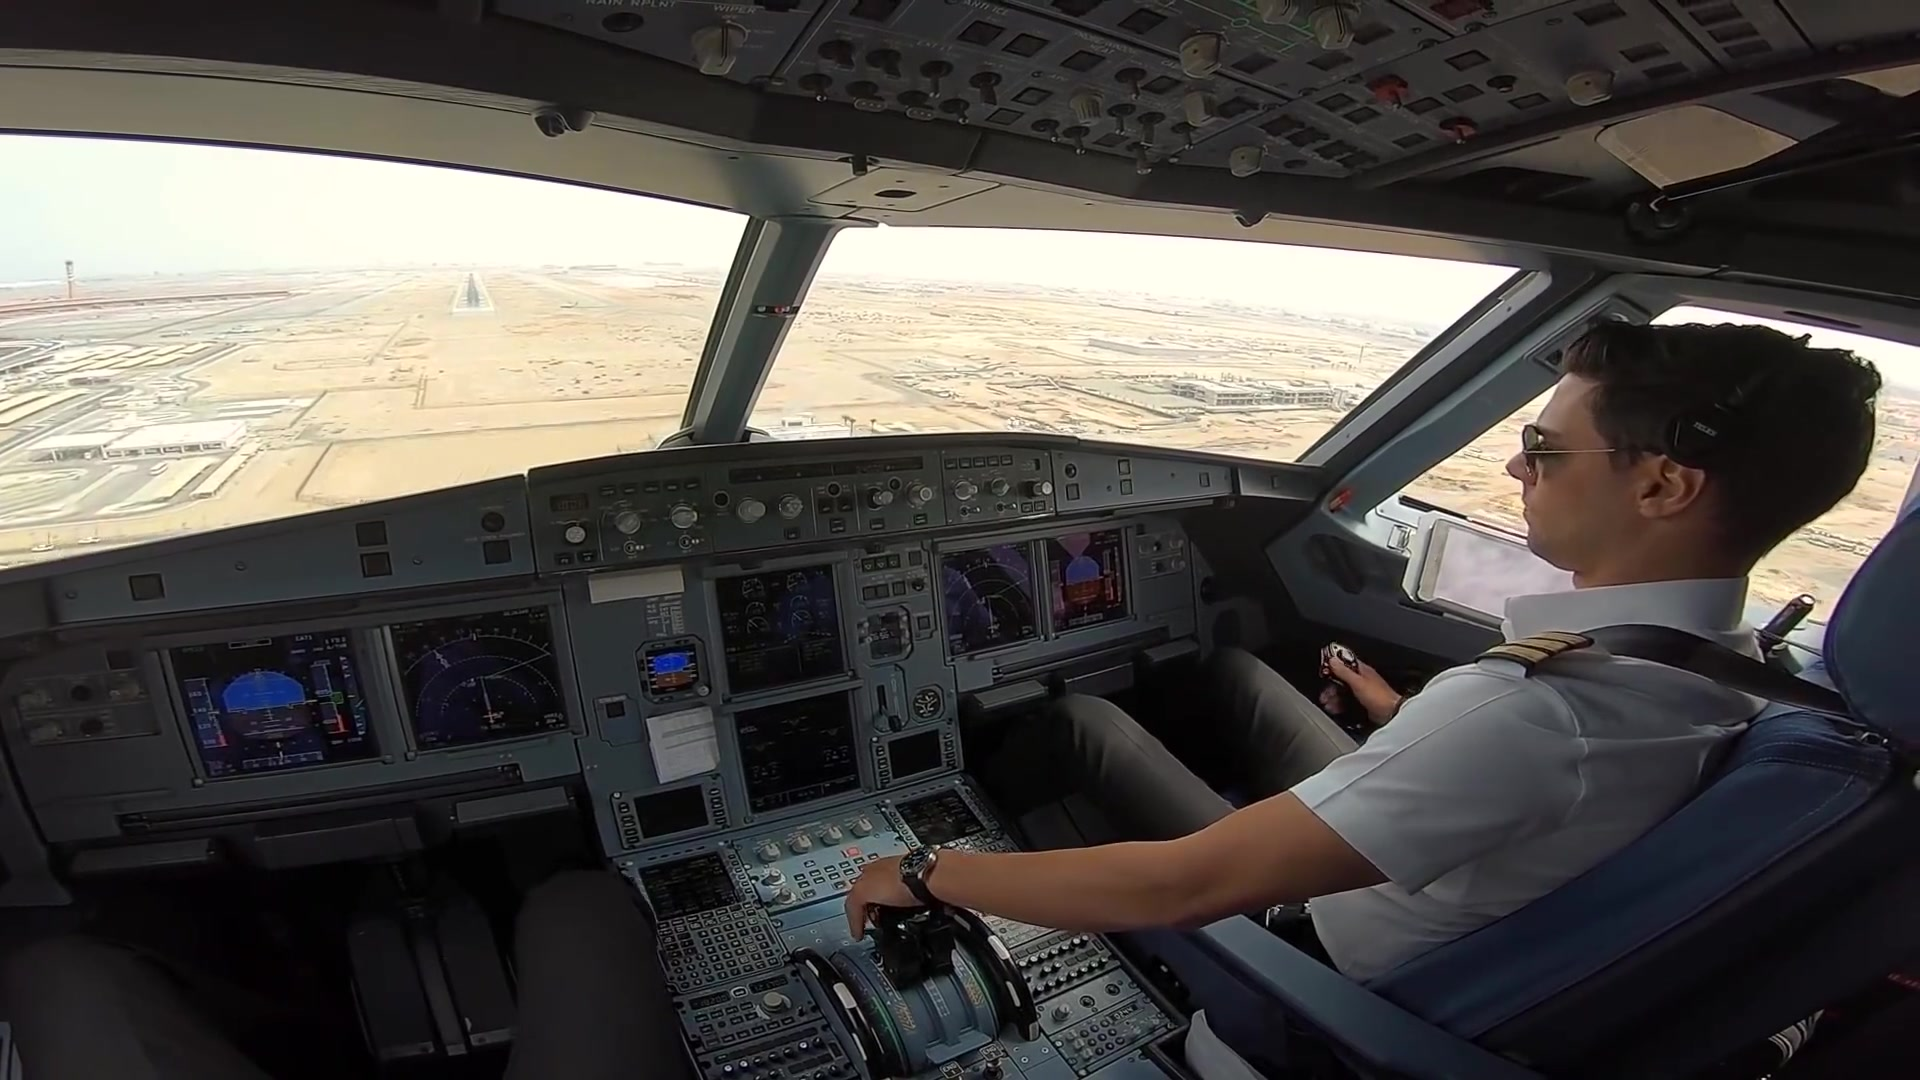runway: (448, 270, 497, 314)
